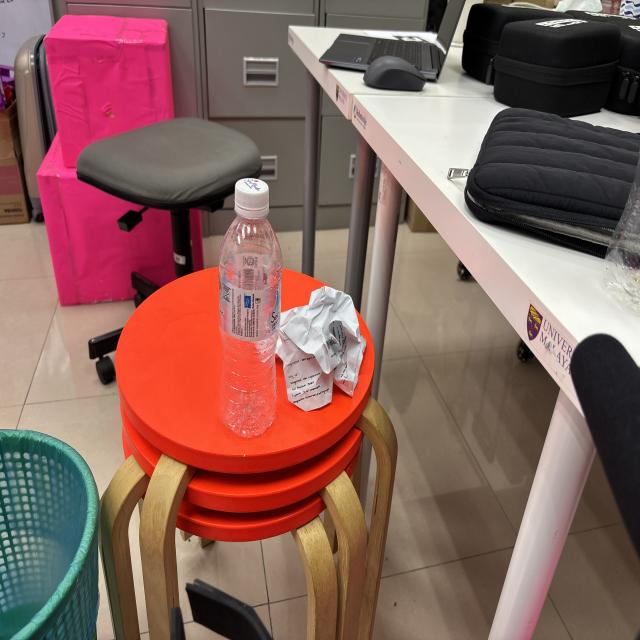crumpled_paper: (272, 276, 374, 422)
plastic_bottle: (212, 165, 288, 450)
